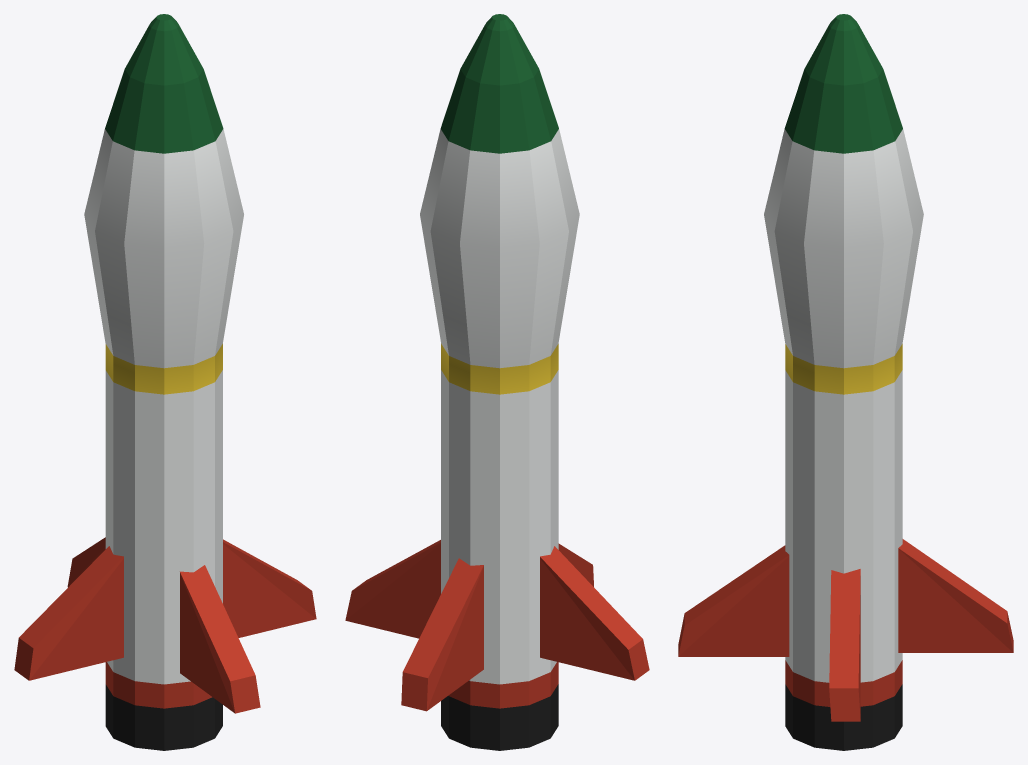
The model's file is rocket.fbx.
The picture shows the model from 3 angles, left to right: view 1: azimuth 30°, elevation 25°; view 2: azimuth 150°, elevation 25°; view 3: azimuth 270°, elevation 25°; orthographic projection.
Parts seen in each view (by area): view 1: rocket; view 2: rocket; view 3: rocket.
Boxes of the visible parts, <box> form: rocket: <box>14,14,316,750</box>; rocket: <box>345,14,649,750</box>; rocket: <box>678,14,1013,750</box>.
Size of the model in its own units: 3.67 by 8.61 by 3.69.
1 material, 1 textured.
